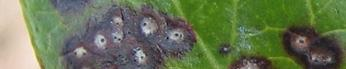Tomato Septoria leaf spot: (6, 0, 346, 69)
